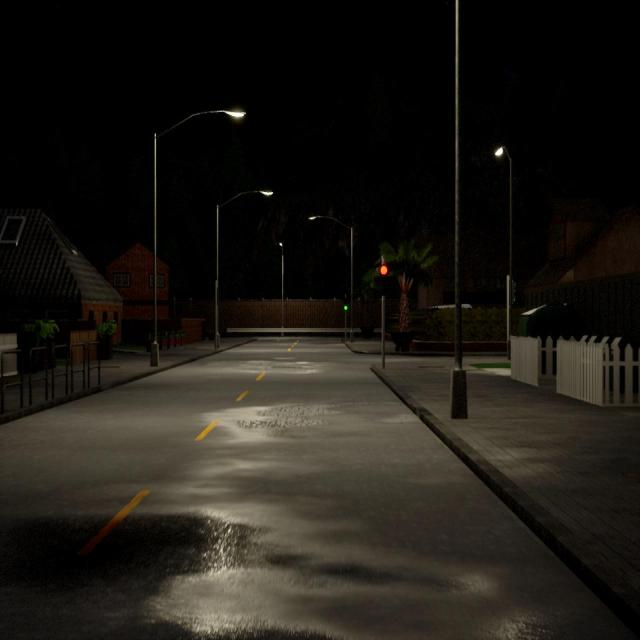traffic_light: (377, 264, 390, 293), (342, 298, 350, 316)
